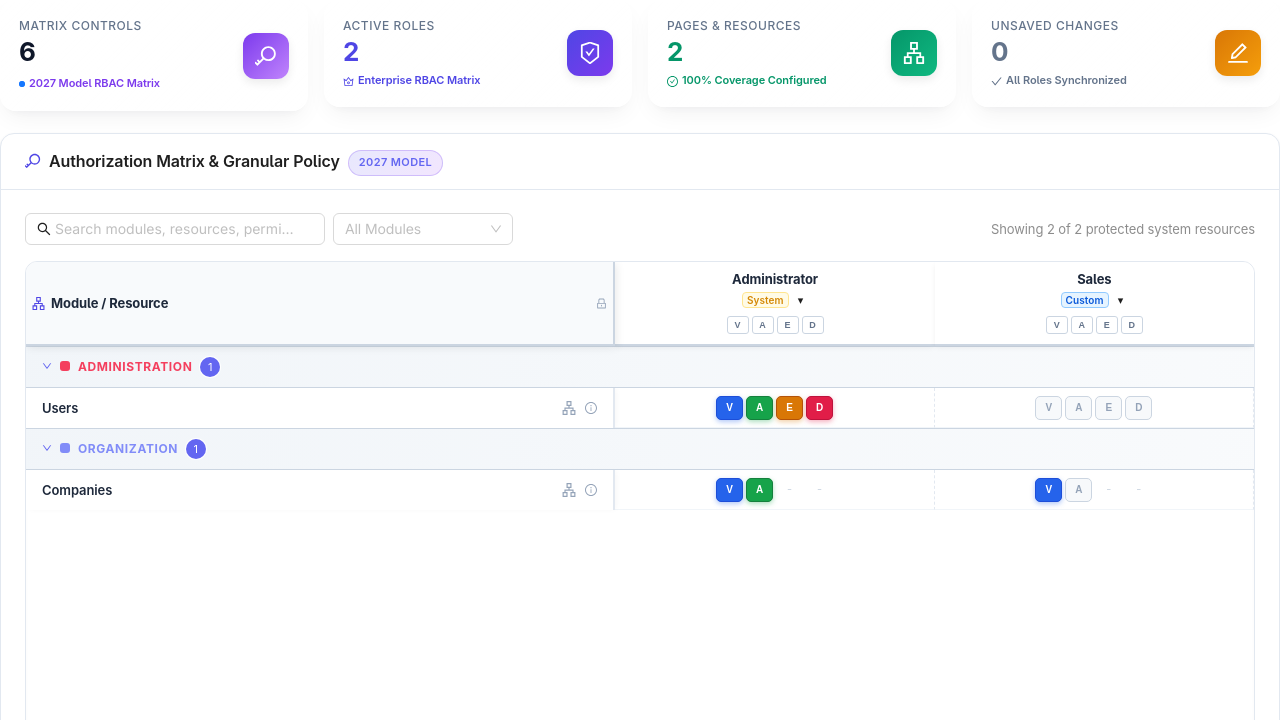
Test: PermissionMatrix (2027 Model) › toggles permission cell, shows floating save dock with unsaved changes, and saves with SaveResultDialog
Check: the text "Users" is shown, box [42,398,78,418]
# Click on ungranted button to grant
Click the button "V" below "Custom". click: point(1057, 325)
box: [1046,316,1068,334]
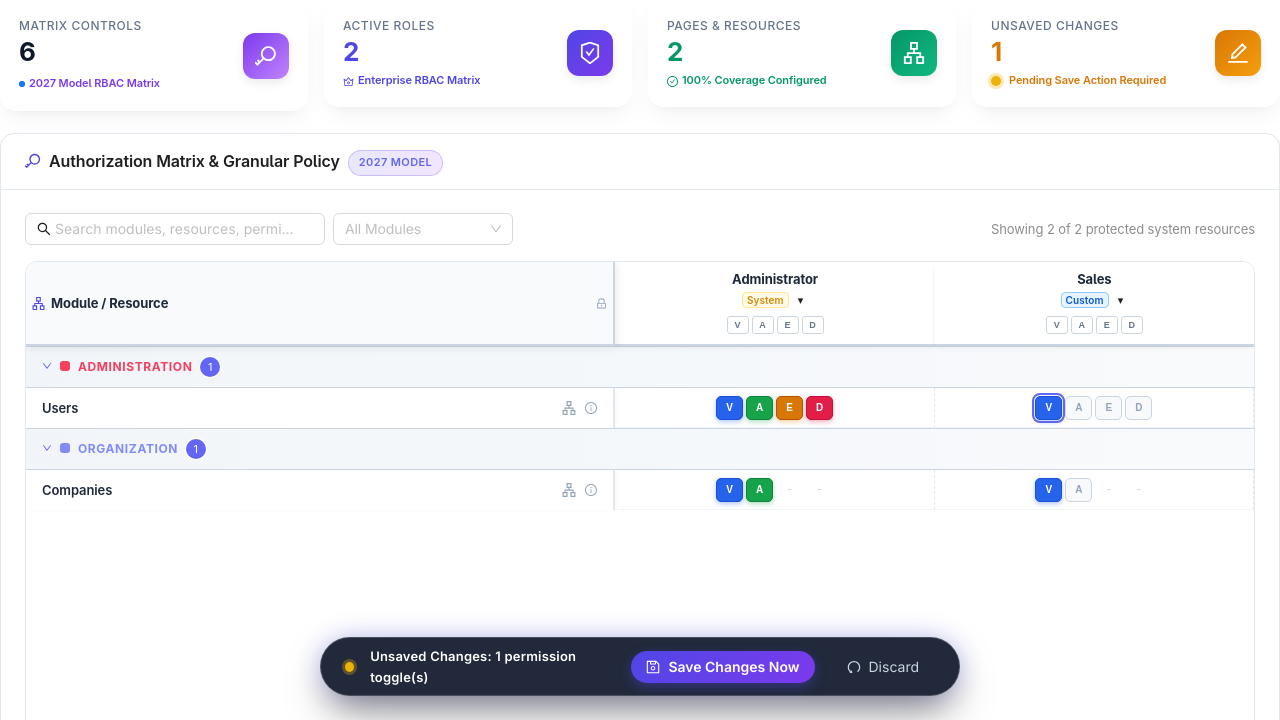
Check: the element with test id "matrix-floating-save-dock" is shown, box [320,637,960,696]
Check: the text "Unsaved Changes: 1 permission toggle(s)" is shown, box [370,648,576,685]
# Click Save Changes Now in the floating dock
Click the button "Save Changes Now". click: point(723, 667)
box: [631,651,814,683]
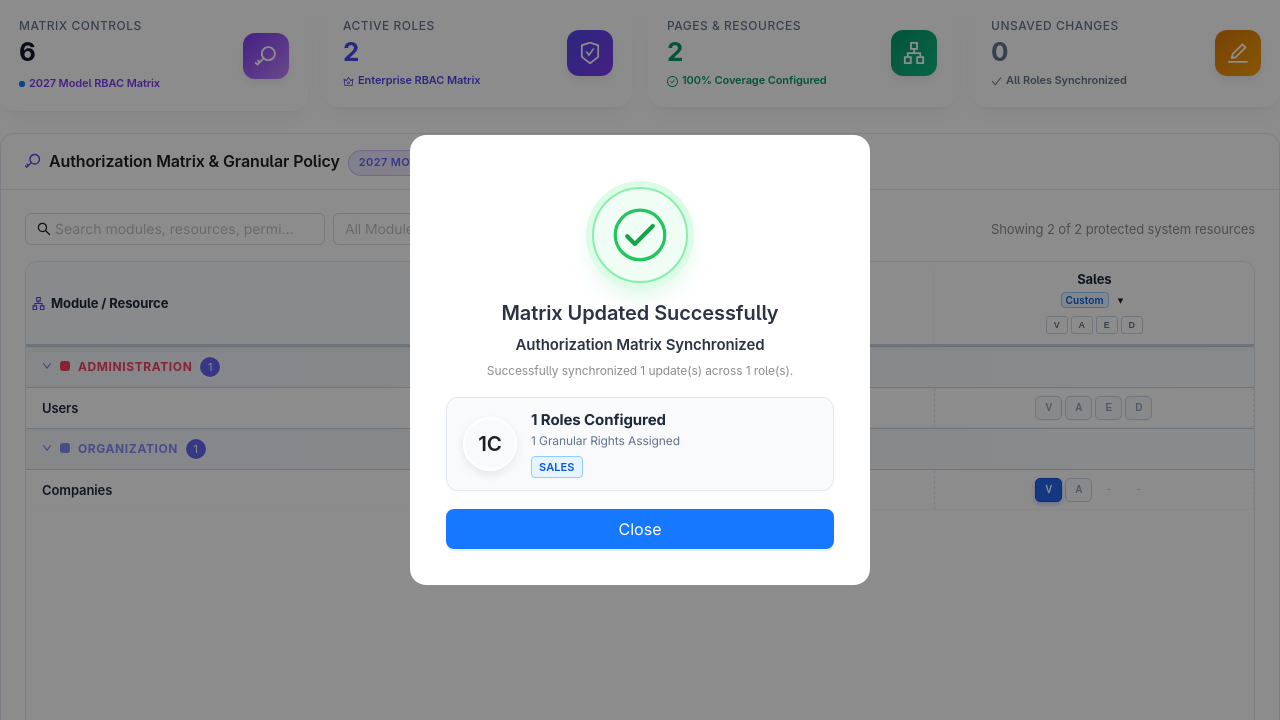
Check: the heading "Matrix Updated Successfully" is shown, box [502,301,778,325]
Check: the text "Authorization Matrix Synchronized" is shown, box [516,335,764,354]
